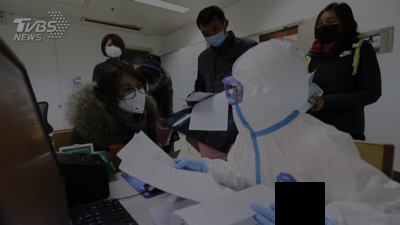with_mask: (119, 81, 147, 117), (314, 15, 342, 46), (203, 23, 226, 48), (103, 42, 123, 60)
